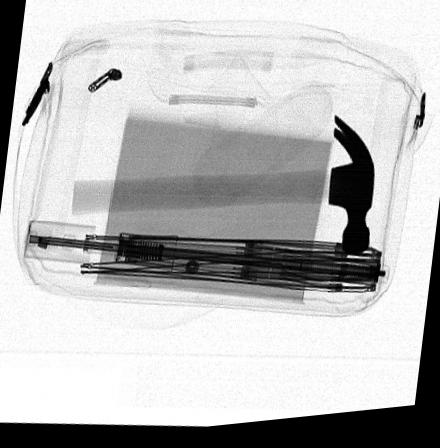Hammer: (70, 121, 374, 263)
